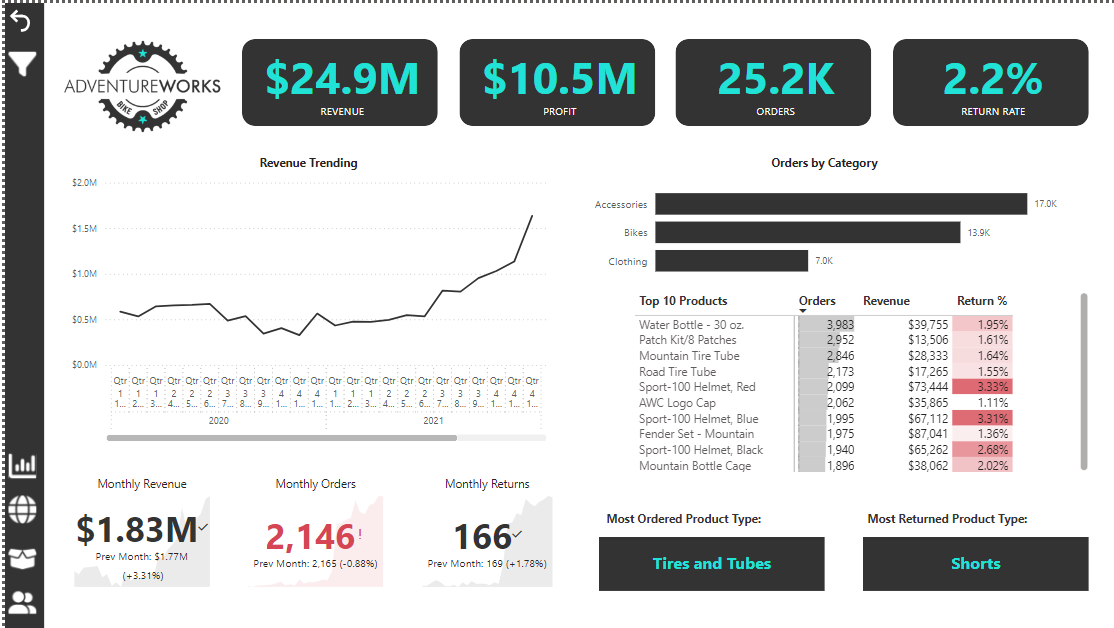

This screenshot's page, from the dashboard's own definition file:
{"tool":"powerbi","page":{"name":"Exec Dashboard","canvas":[1280,720],"ordinal":0},"visuals":[{"type":"card","fields":{"Values":["Measure Table.Total Revenue"]},"box":[272.5,13.8,230,153.8],"z":0,"group":"g2"},{"type":"image","title":"AW Logo","box":[42.5,18.8,230,153.8],"z":0},{"type":"group","id":"g1","title":"KPI Backgrounds","box":[272.5,41.3,972.5,100],"z":0,"group":"g3"},{"type":"shape","box":[272.5,41.3,225,100],"z":0,"group":"g1"},{"type":"actionButton","box":[0,512.2,44.8,40.3],"z":0,"group":"g4"},{"type":"shape","title":"Left Nav Background","box":[0,0,45,720],"z":1000},{"type":"group","id":"g2","title":"KPI Values","box":[272.5,13.8,977.5,153.8],"z":1000,"group":"g3"},{"type":"card","fields":{"Values":["Measure Table.Return Rate"]},"box":[1020,13.8,230,153.8],"z":1000,"group":"g2"},{"type":"shape","box":[521.7,41.3,225,100],"z":1000,"group":"g1"},{"type":"actionButton","box":[0,562.3,44.8,40.3],"z":1000,"group":"g4"},{"type":"group","id":"g3","title":"KPIs","box":[272.5,13.8,977.5,153.8],"z":2000},{"type":"card","fields":{"Values":["Measure Table.Total Orders"]},"box":[770.8,13.8,230,153.8],"z":2000,"group":"g2"},{"type":"shape","box":[770.8,41.3,225,100],"z":2000,"group":"g1"},{"type":"actionButton","box":[0,619.7,44.8,40.3],"z":2000,"group":"g4"},{"type":"card","fields":{"Values":["Measure Table.Total Profit"]},"box":[521.7,13.8,230,153.8],"z":3000,"group":"g2"},{"type":"shape","box":[1020,41.3,225,100],"z":3000,"group":"g1"},{"type":"lineChart","title":"Revenue Trending","fields":{"Y":["Measure Table.Total Revenue"],"Category":["Calendar Lookup.Year","Calendar Lookup.Date Hierarchy.Start of Month","Calendar Lookup.Start of Quarter.Variation.Date Hierarchy.Quarter"]},"box":[70,173.6,556.4,334.5],"z":3000},{"type":"actionButton","box":[0,668.9,44.8,40.3],"z":3000,"group":"g4"},{"type":"kpi","title":"Monthly Revenue","fields":{"Indicator":["Measure Table.Total Revenue"],"TrendLine":["Calendar Lookup.Date Hierarchy.Start of Month"],"Goal":["Measure Table.Previous Month Revenue"]},"box":[73.6,543.6,166.4,132.7],"z":4000},{"type":"kpi","title":"Monthly Returns","fields":{"TrendLine":["Calendar Lookup.Date Hierarchy.Start of Month"],"Indicator":["Measure Table.Total Returns"],"Goal":["Measure Table.Previous Month Returns"]},"box":[474.5,543.6,160,132.7],"z":5000},{"type":"kpi","title":"Monthly Orders","fields":{"TrendLine":["Calendar Lookup.Date Hierarchy.Start of Month"],"Indicator":["Measure Table.Total Orders"],"Goal":["Measure Table.Previous Month Orders"]},"box":[274.5,543.6,165.5,132.7],"z":6000},{"type":"clusteredBarChart","title":"Orders by Category","fields":{"Category":["Product Categories Lookup.CategoryName"],"Y":["Measure Table.Total Orders"]},"box":[667.3,173.6,549.1,153.6],"z":7000},{"type":"pivotTable","fields":{"Rows":["Product Lookup.ProductName"],"Values":["Measure Table.Total Orders","Measure Table.Total Revenue","Measure Table.Return Rate"]},"box":[719.1,327.3,530.9,216.4],"z":8000},{"type":"card","fields":{"Values":["Min(Product Subcategories Lookup.SubcategoryName)"]},"box":[682.7,614.5,259.1,61.8],"z":9000},{"type":"textbox","box":[685.5,577.3,206.4,37.3],"z":10000},{"type":"card","fields":{"Values":["Min(Product Subcategories Lookup.SubcategoryName)"]},"box":[986.4,614.5,259.1,61.8],"z":11000},{"type":"textbox","box":[986.4,577.3,206.4,37.3],"z":12000},{"type":"actionButton","box":[0,0,34.9,40.3],"z":13000},{"type":"group","id":"g4","title":"Navigation Buttons","box":[0,512.2,44.8,197],"z":14000},{"type":"actionButton","box":[0,50.1,44.8,40.3],"z":15000}]}

Visuals, with their boxes on the page's 1280x720 design canvas (x1, y1, x2, y2). These are canvas units, not pixel positions in the 1114x628 screenshot, which may show the page scaled, cropped or inside an application window:
card - Measure Table.Total Revenue: 272 14 502 168
"AW Logo" image: 42 19 272 173
"KPI Backgrounds" group: 272 41 1245 141
shape: 272 41 498 141
actionButton: 0 512 45 552
"Left Nav Background" shape: 0 0 45 720
"KPI Values" group: 272 14 1250 168
card - Measure Table.Return Rate: 1020 14 1250 168
shape: 522 41 747 141
actionButton: 0 562 45 603
"KPIs" group: 272 14 1250 168
card - Measure Table.Total Orders: 771 14 1001 168
shape: 771 41 996 141
actionButton: 0 620 45 660
card - Measure Table.Total Profit: 522 14 752 168
shape: 1020 41 1245 141
"Revenue Trending" lineChart: 70 174 626 508
actionButton: 0 669 45 709
"Monthly Revenue" kpi: 74 544 240 676
"Monthly Returns" kpi: 474 544 634 676
"Monthly Orders" kpi: 274 544 440 676
"Orders by Category" clusteredBarChart: 667 174 1216 327
pivotTable - Product Lookup.ProductName x Measure Table.Total Orders: 719 327 1250 544
card - Min(Product Subcategories Lookup.SubcategoryName): 683 614 942 676
textbox: 686 577 892 615
card - Min(Product Subcategories Lookup.SubcategoryName): 986 614 1246 676
textbox: 986 577 1193 615
actionButton: 0 0 35 40
"Navigation Buttons" group: 0 512 45 709
actionButton: 0 50 45 90
